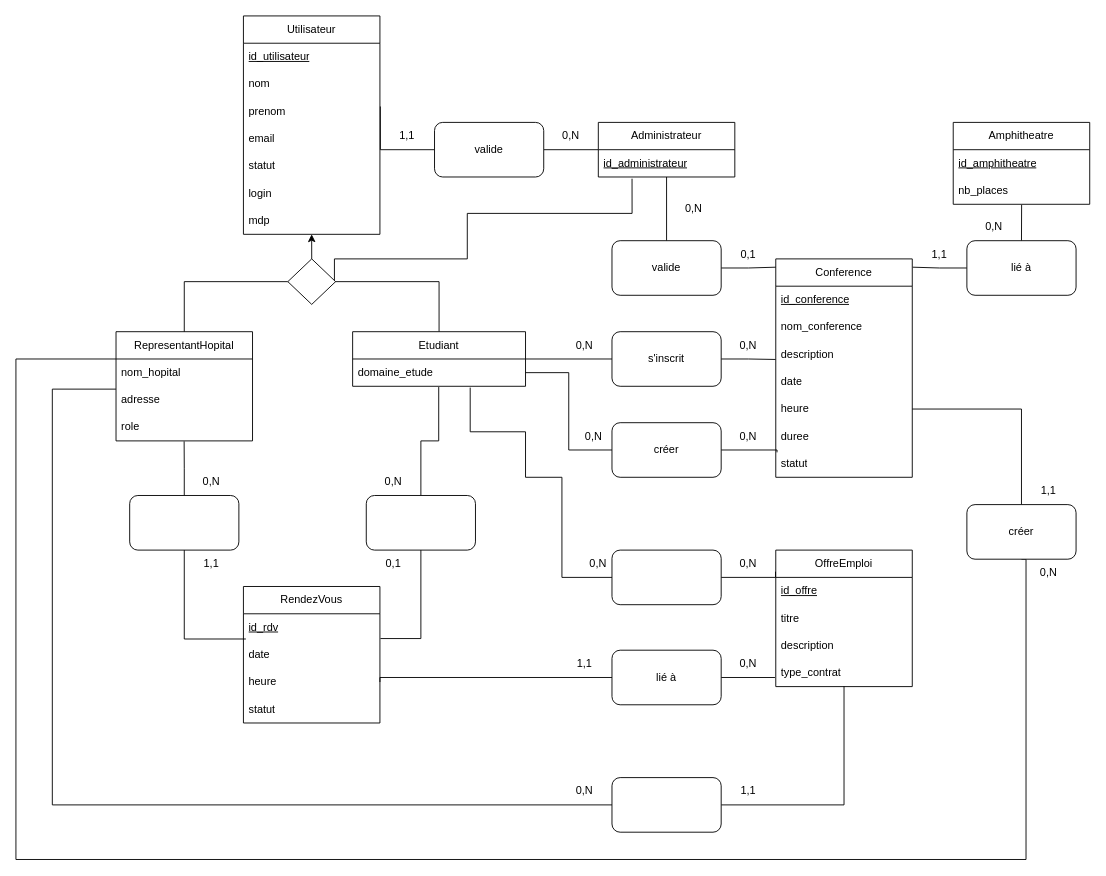
Image size: 1106x876. Some labels were removed from this diagram. Each missing label, with the centre of its shape:
"confirme" goes at (420,522).
"postule" goes at (666,577).
"propose" goes at (184,522).
"émet" goes at (666,804).
